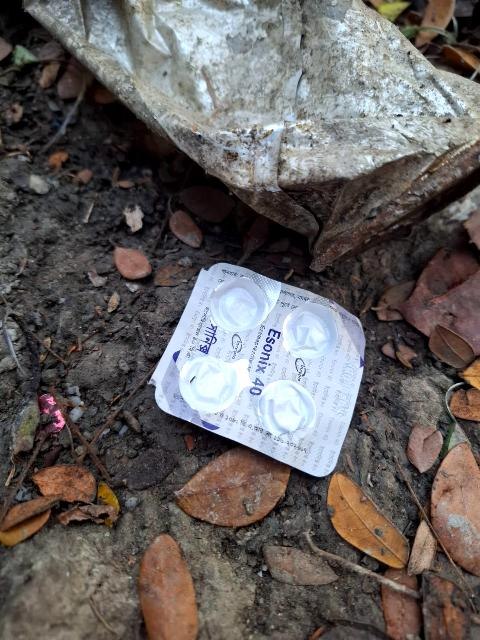medicine: (156, 250, 390, 479)
